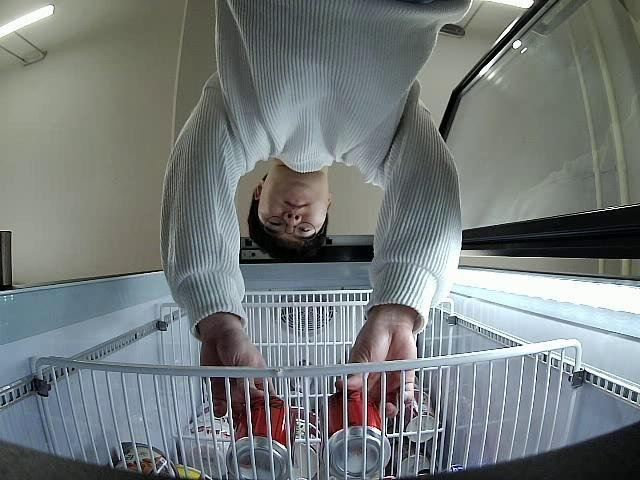11_cocaColaZero: (325, 388, 393, 480), (228, 392, 292, 480)
